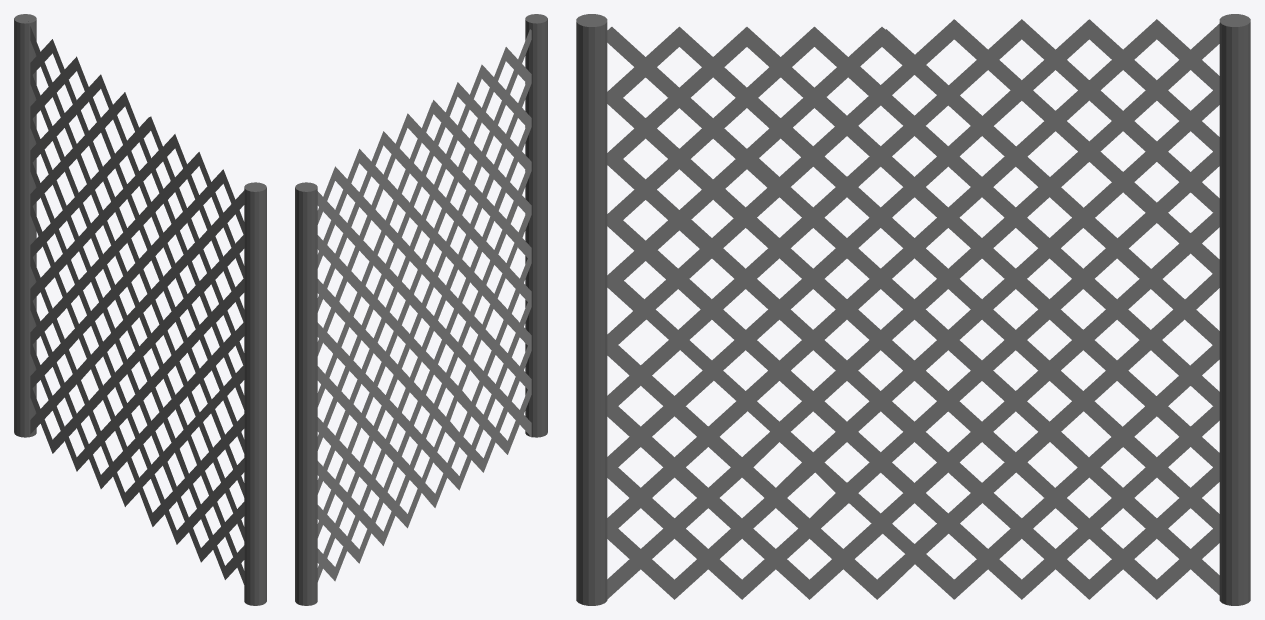
File: fence1.glb
3 renders of one model, left to right at view 1: azimuth 30°, elevation 25°; view 2: azimuth 150°, elevation 25°; view 3: azimuth 270°, elevation 25°, orthographic. The views are drawn at different scales.
Parts seen in each view (by area): view 1: Grid.002; view 2: Grid.002; view 3: Grid.002.
Boxes of the visible parts, x1,y1,x2,y2 form: Grid.002: [14, 14, 266, 605]; Grid.002: [295, 14, 547, 605]; Grid.002: [576, 14, 1250, 605].
Bounding box in the file's own units: 0.2205 × 4.55 × 4.78.
1 material, 1 textured.
